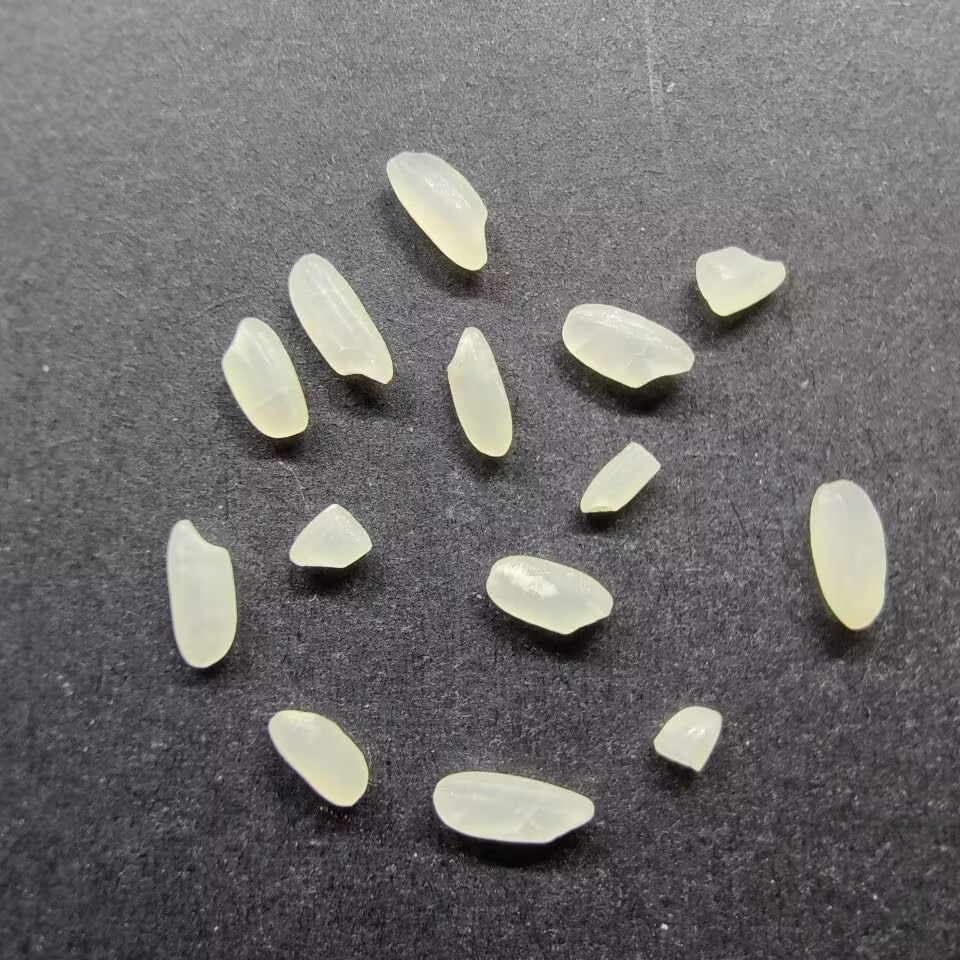broken: (693, 245, 787, 317), (578, 440, 662, 514), (287, 503, 373, 569), (651, 704, 723, 772)
rice: (285, 252, 395, 385), (384, 149, 491, 272), (429, 769, 596, 846), (807, 477, 890, 631), (560, 302, 695, 389), (220, 314, 309, 440), (165, 518, 239, 669), (266, 708, 371, 808), (485, 554, 614, 635), (445, 323, 513, 459)
